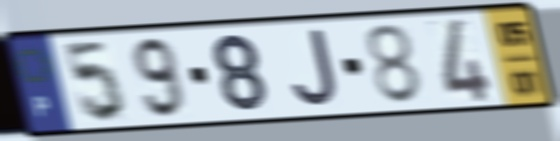4: (439, 15, 493, 105)
5: (59, 37, 127, 125)
8: (210, 30, 271, 116), (363, 22, 422, 106)
9: (128, 34, 189, 121)
J: (290, 26, 341, 110)
